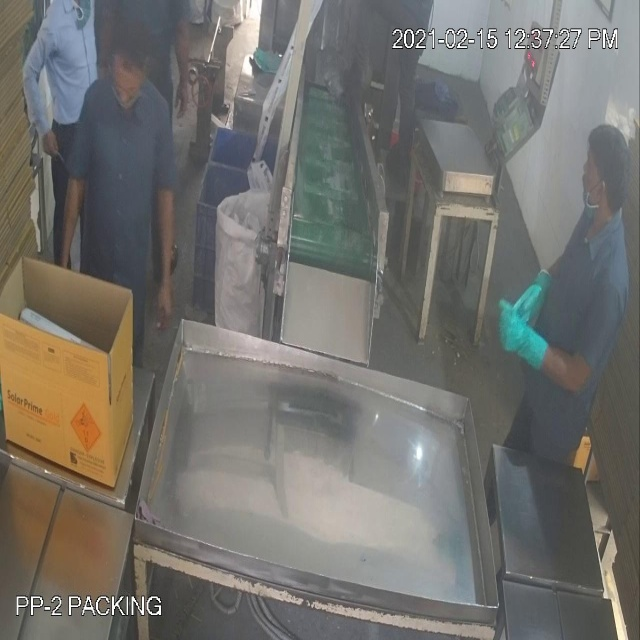Guantes: (490, 297, 553, 374)
Sin_guantes: (144, 168, 177, 342), (18, 34, 61, 162), (53, 163, 88, 287), (168, 9, 195, 123)
